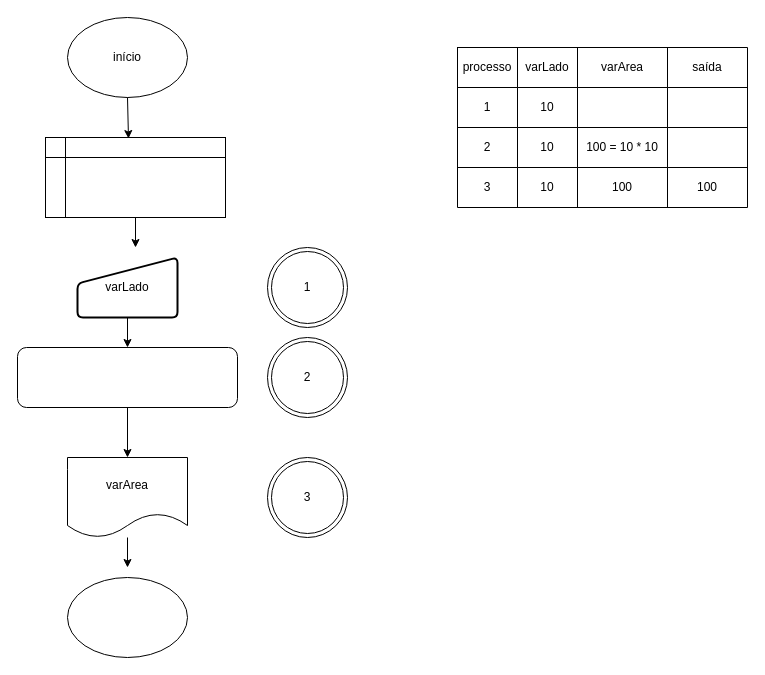
The diagram is 765 pixels wide and 675 high, and some of its shapes have lost their labels. The centre of each missing label's shape, as x and y in pixels:
"fim" goes at pixel 127 617.
"varArea = varLado * varLado" goes at pixel 127 377.
"varLado, varArea" goes at pixel 135 177.
